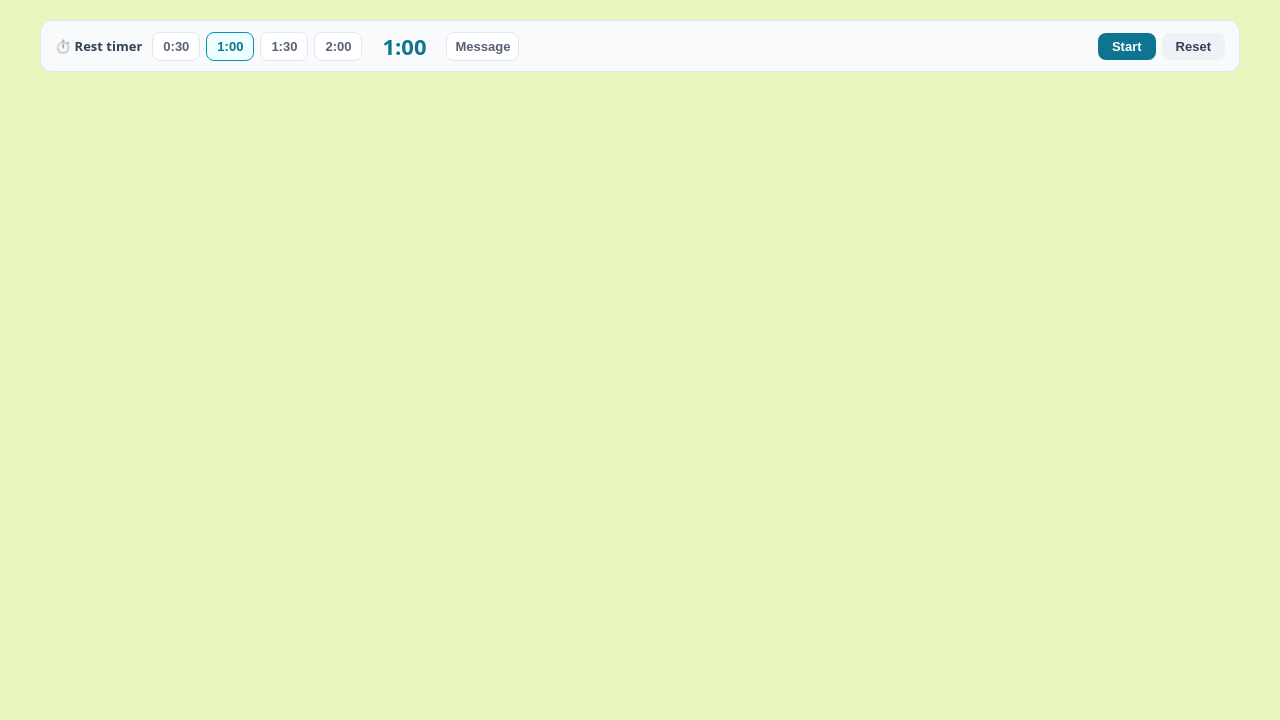
Test: RestTimer end-of-rest alert › shows a full-screen alert that stays until tapped
Click the button "0:30".
click(176, 46)  # box [152,32,200,60]
Wait 90000 ms
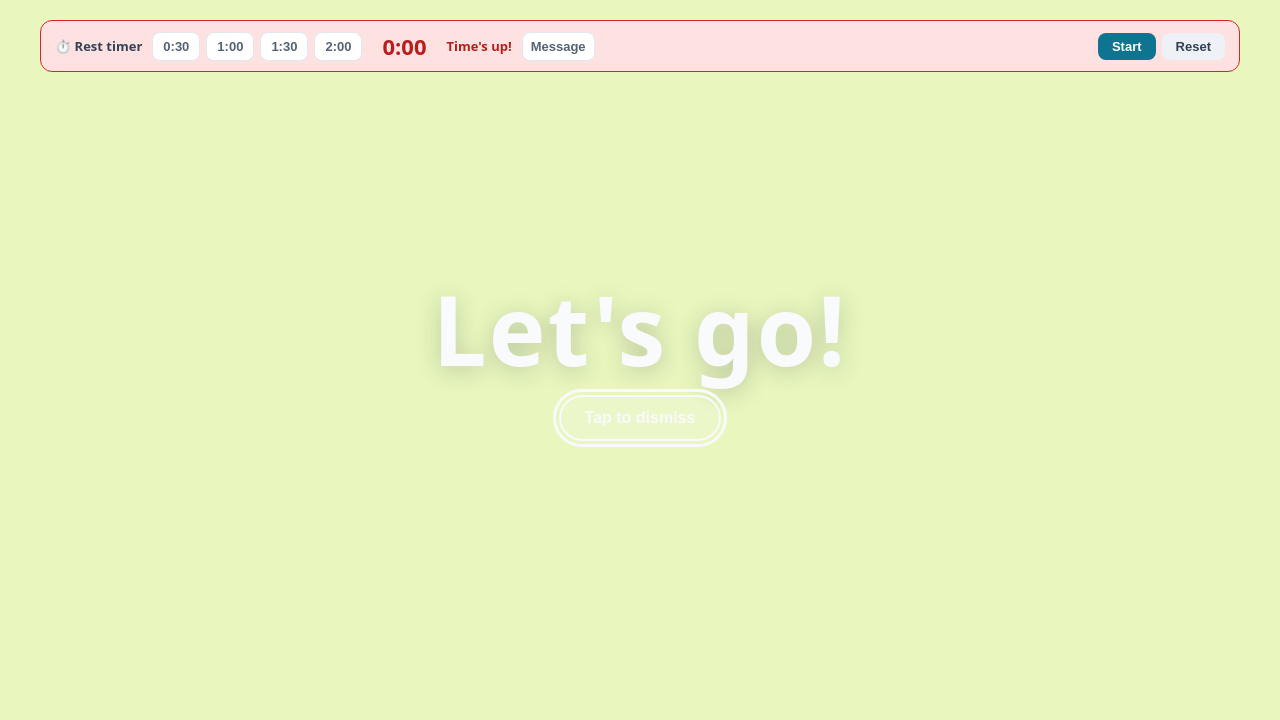
Expected: the dialog with test id "rest-alert" shows "Let's go!", [433,263,847,394]
Expected: the dialog with test id "rest-alert" shows "Tap to dismiss", [559,395,721,441]
Expected: the dialog with test id "rest-alert" is shown
Click the dialog with test id "rest-alert".
click(640, 352)  # box [433,263,847,441]
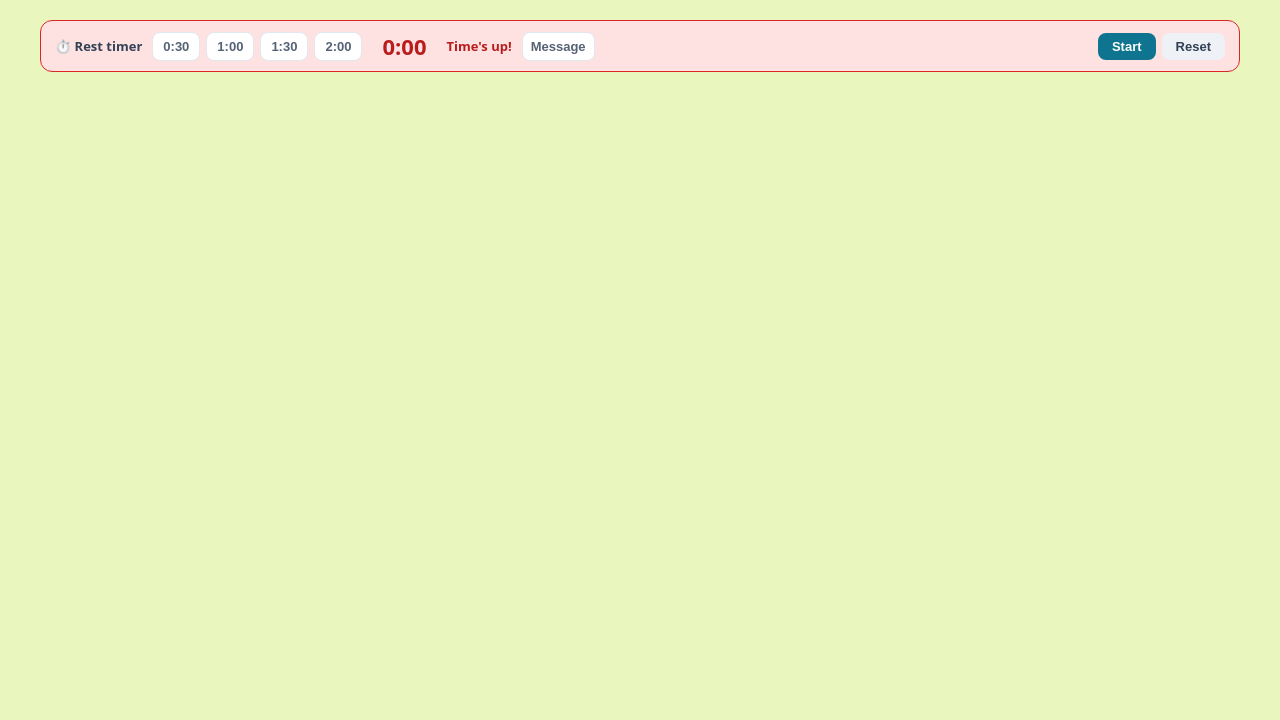
Expected: the text "Time's up!" is shown, [446,37,512,55]
Expected: the dialog with test id "rest-alert" is gone
